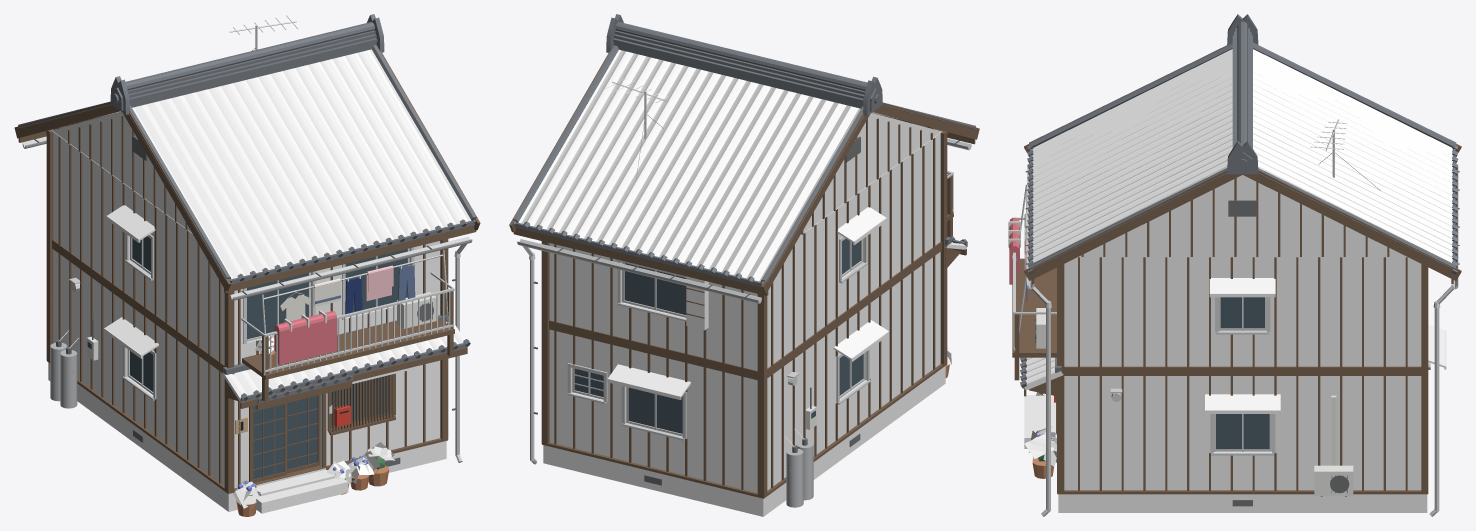
The model's file is house_narrow.glb.
3 renders of one model, left to right at view 1: azimuth 30°, elevation 25°; view 2: azimuth 150°, elevation 25°; view 3: azimuth 270°, elevation 25°, orthographic. The views are drawn at different scales.
Parts seen in each view (by area): view 1: house_narrow_body; view 2: house_narrow_body; view 3: house_narrow_body.
Part boxes in pixels (box(x1,y1,x2,y2)): house_narrow_body: box(14, 14, 480, 516); house_narrow_body: box(509, 14, 979, 516); house_narrow_body: box(1008, 14, 1461, 516).
Size of what is drawn, in the model's own units: 6.45 by 8.66 by 9.34.
